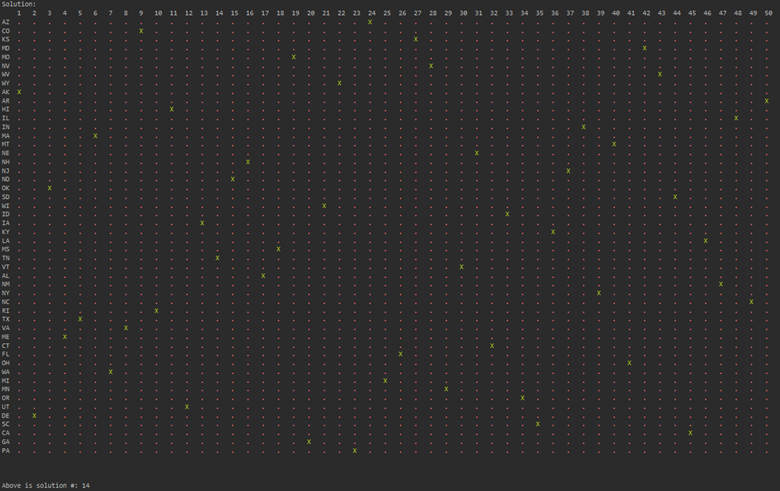

The dashboard page shown, as its layout file describes it:
{"tool":"powerbi","page":{"name":"Calculating Dropout Rate 3","canvas":[1280,720],"ordinal":11},"visuals":[{"type":"shape","box":[0,100.2,160,50],"z":0},{"type":"shape","box":[0,20.4,1280,80],"z":1000},{"type":"slicer","fields":{"Values":["Mintage_Key.Mintmark Key"]},"box":[10,600,140,100],"z":2000},{"type":"slicer","fields":{"Values":["Distribution_Testing.Box"]},"box":[10.6,350.3,140,230],"z":3000},{"type":"tableEx","title":"Calculated Dropout Rate by Box","fields":{"Values":["Distribution_Testing.Box","Distribution_Testing.Mintmark","Sum(Distribution_Testing.Total Sampled)","Distribution_Testing.Hypothesized Dropout Rate"]},"box":[197.2,224.5,529.3,250.2],"z":4000}]}

Visuals, with their boxes on the page's 1280x720 design canvas (x1, y1, x2, y2). These are canvas units, not pixel positions in the 780x491 screenshot, which may show the page scaled, cropped or inside an application window:
shape: 0 100 160 150
shape: 0 20 1280 100
slicer - Mintage_Key.Mintmark Key: 10 600 150 700
slicer - Distribution_Testing.Box: 11 350 151 580
"Calculated Dropout Rate by Box" tableEx: 197 224 726 475
